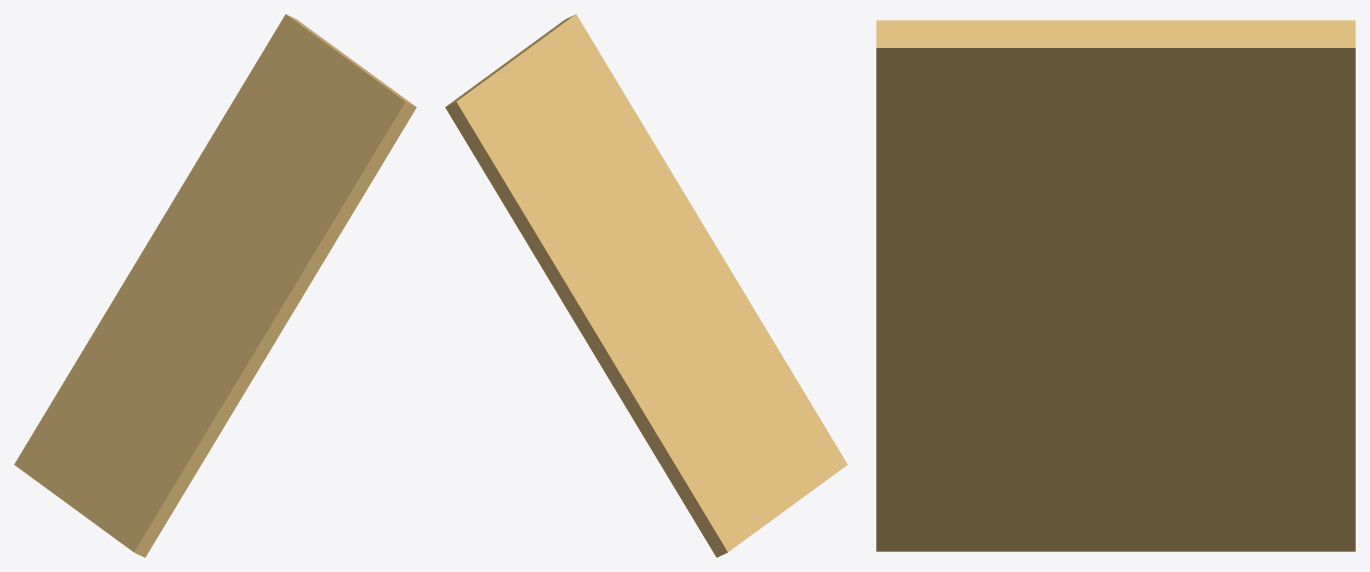
Rendered from BuildingRoof1.5m1.fbx.
3 renders of one model, left to right at view 1: azimuth 30°, elevation 25°; view 2: azimuth 150°, elevation 25°; view 3: azimuth 270°, elevation 25°, orthographic. The views are drawn at different scales.
Visible parts, largest first — view 1: building_roof_1.5m_1; view 2: building_roof_1.5m_1; view 3: building_roof_1.5m_1.
Part boxes in pixels (<box>): building_roof_1.5m_1: <box>14,14,416,557</box>; building_roof_1.5m_1: <box>445,14,847,557</box>; building_roof_1.5m_1: <box>876,20,1355,551</box>.
Size of the model in its own units: 204 by 271 by 150.
